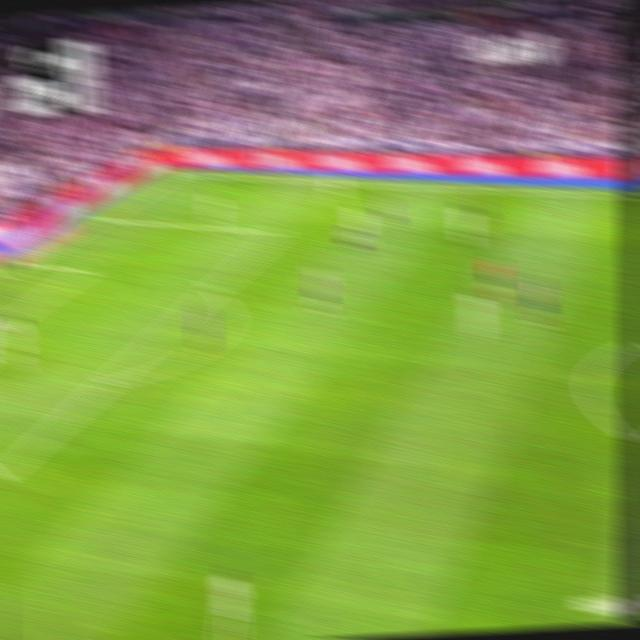bigarea_top_inner: (269, 224, 286, 240)
bigarea_top_outter: (90, 210, 110, 224)
bottom_arc_area_intersection: (99, 370, 122, 392)
corner: (163, 166, 183, 178)
smallarea_top_inner: (76, 263, 93, 277)
top_arc_area_intersection: (205, 282, 222, 298)
